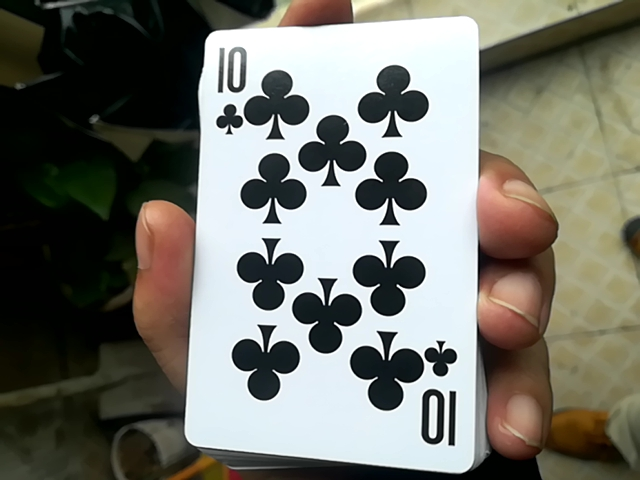mh 10: (181, 11, 479, 459)
